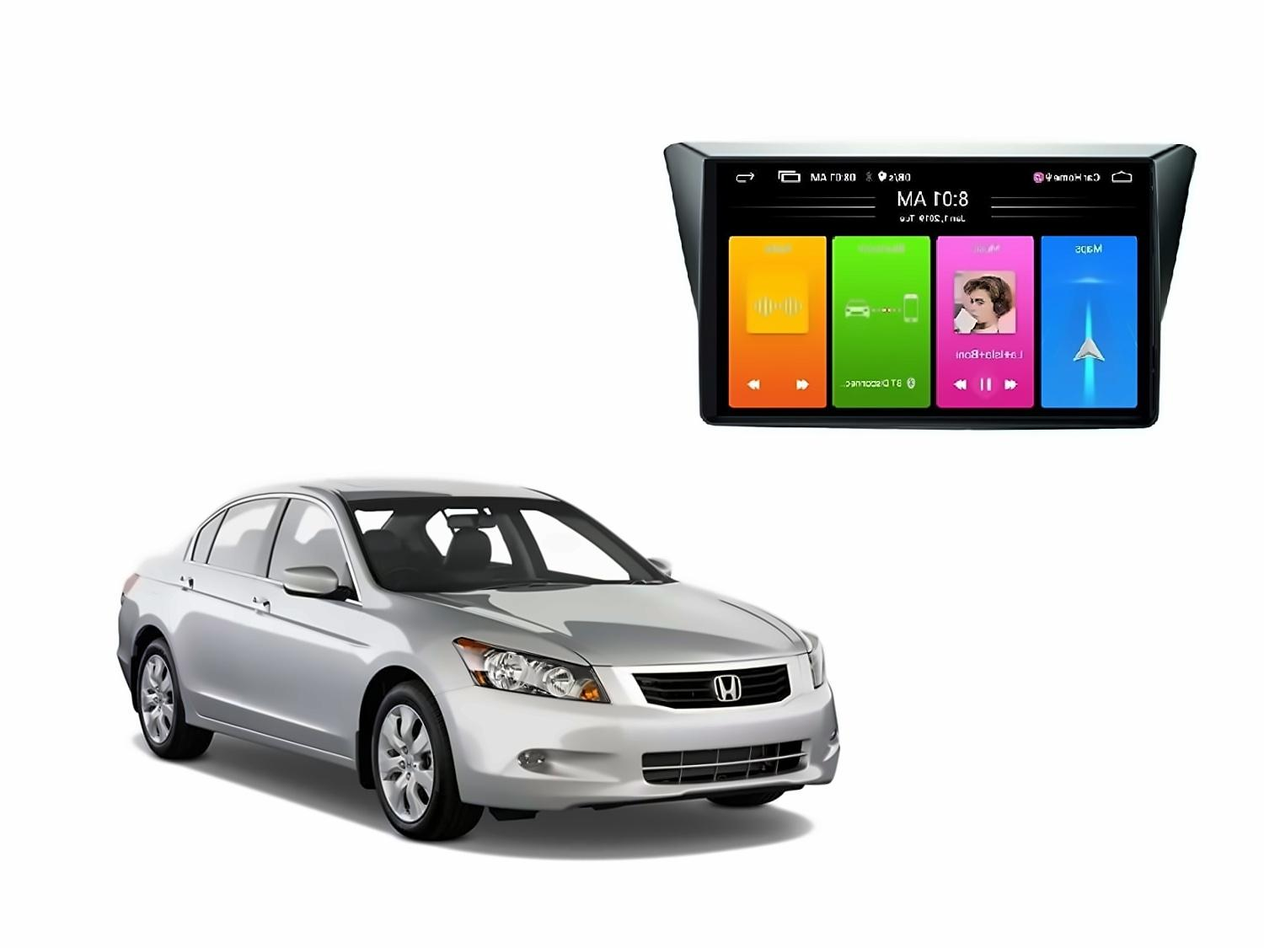Car hood: (396, 581, 820, 670)
Driver-s door - -F-R-: (253, 486, 353, 759)
Fender - -F-R-: (354, 574, 472, 767)
Fender - -R-R-: (132, 569, 187, 729)
Front bumper: (438, 693, 852, 823)
Headlight - -L-: (798, 634, 843, 694)
Headlight - -R-: (445, 627, 621, 710)
Passenger-s door - -R-R-: (169, 490, 255, 730)
Rear bumper: (105, 610, 141, 717)
Rear light - -R-: (111, 565, 147, 606)
Side bumper - -R-: (169, 691, 370, 781)
Side mirror - -L-: (636, 549, 693, 586)
Side mirror - -R-: (271, 558, 357, 613)
